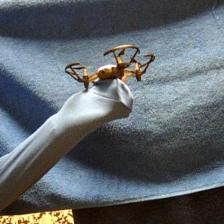drone: (61, 42, 156, 91)
